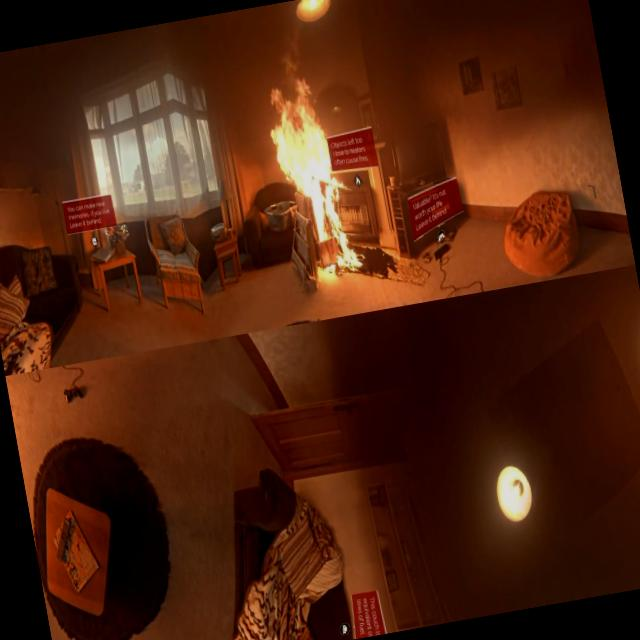fire: (253, 57, 364, 274)
